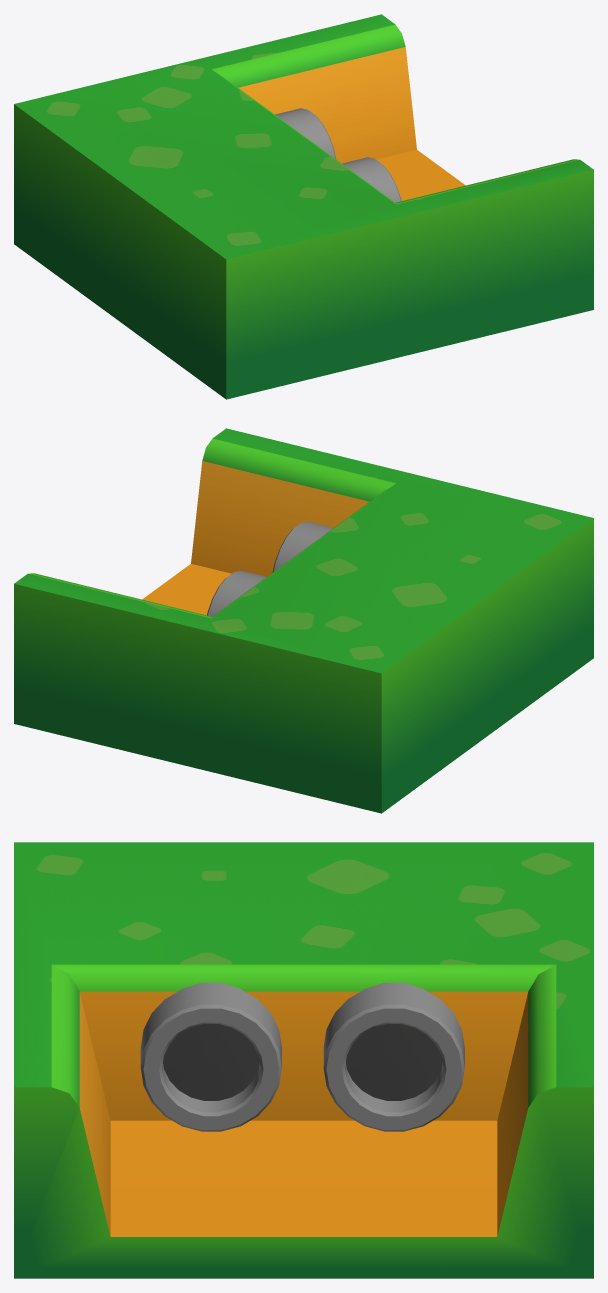
Rendered from RiverTile_4_1.fbx.
The picture shows the model from 3 angles, top to bottom: view 1: azimuth 30°, elevation 25°; view 2: azimuth 150°, elevation 25°; view 3: azimuth 270°, elevation 25°; orthographic projection. The views are drawn at different scales.
Visible parts, largest first — view 1: RiverTile_4_1; view 2: RiverTile_4_1; view 3: RiverTile_4_1.
Boxes of the visible parts, <box> form: RiverTile_4_1: <box>14,14,593,399</box>; RiverTile_4_1: <box>14,428,593,813</box>; RiverTile_4_1: <box>14,842,593,1278</box>.
Size of the model in its own units: 400 by 146 by 400.
